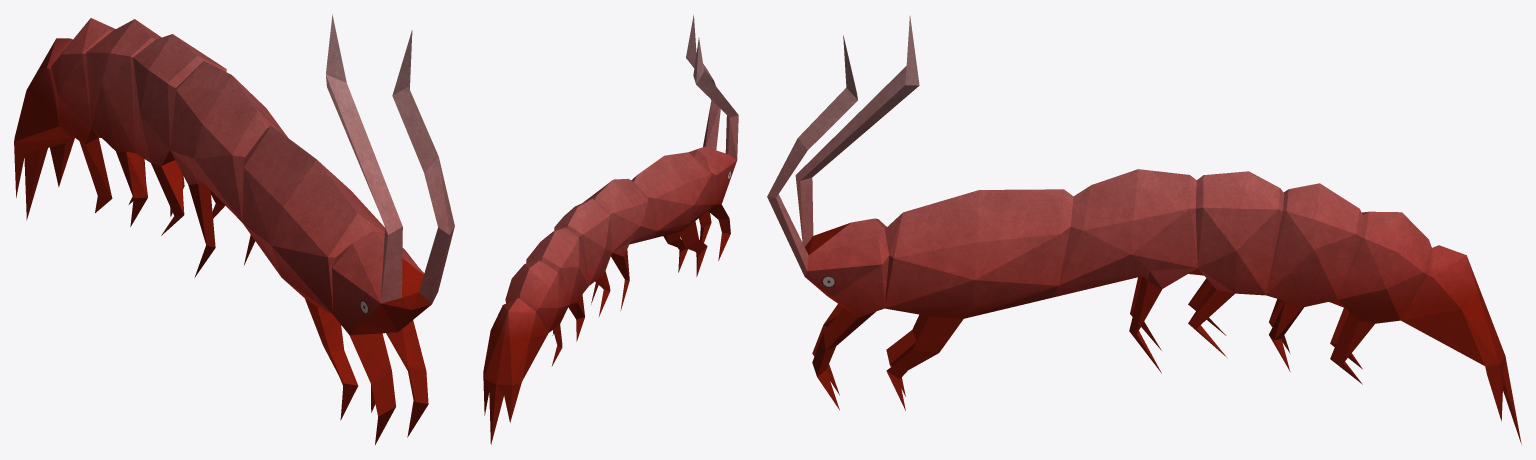
Rendered from SM_Krill_01a.fbx.
3 views of the same model, side by side, from view 1: azimuth 30°, elevation 25°; view 2: azimuth 150°, elevation 25°; view 3: azimuth 270°, elevation 25° (orthographic). The views are drawn at different scales.
Parts seen in each view (by area): view 1: polySurface20; view 2: polySurface20; view 3: polySurface20.
Boxes of the visible parts, left/top/right/bottom form: polySurface20: left=14, top=14, right=454, bottom=444; polySurface20: left=483, top=14, right=738, bottom=444; polySurface20: left=767, top=15, right=1521, bottom=444.
Bounding box in the file's own units: 4.37 × 19.74 × 31.94.
1 material, 1 textured.
